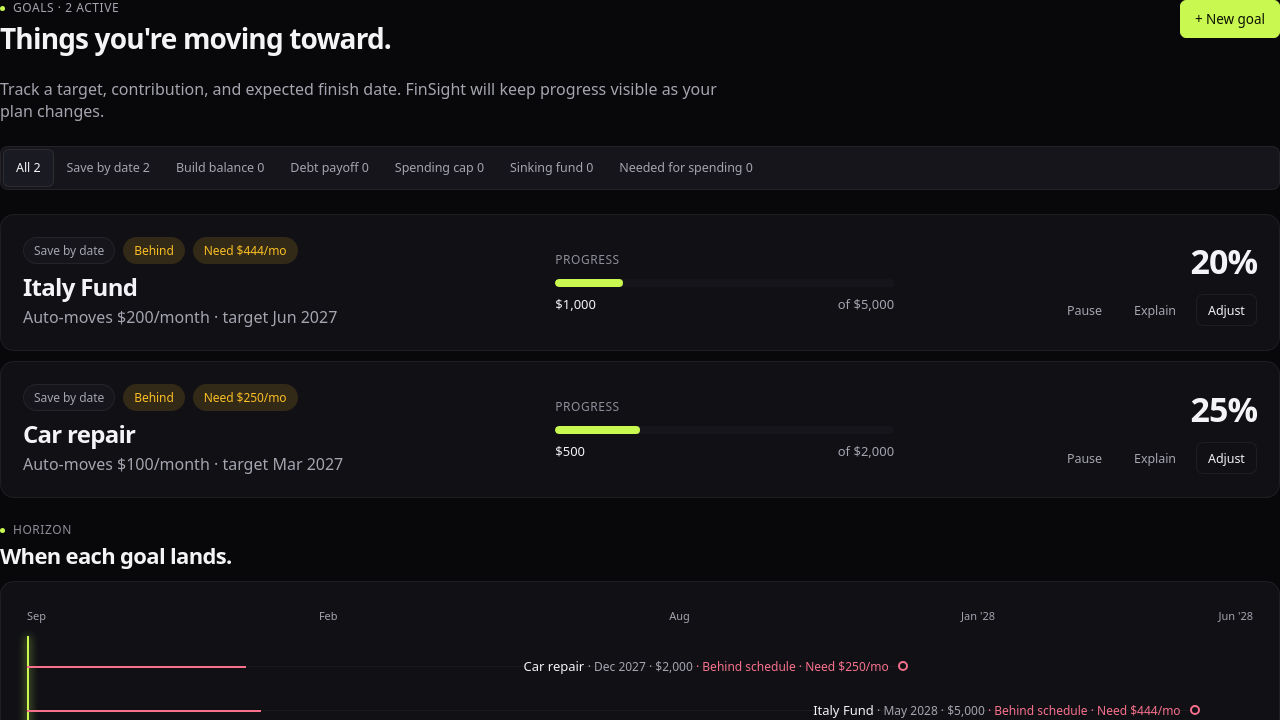
Goals — explain a goal's completion (#71) › opens the inspector with the goal's projected completion
Click the button "Explain" in the row of "/month · target Jun 2027" at (1155, 310), box left=1122, top=294, right=1188, bottom=326
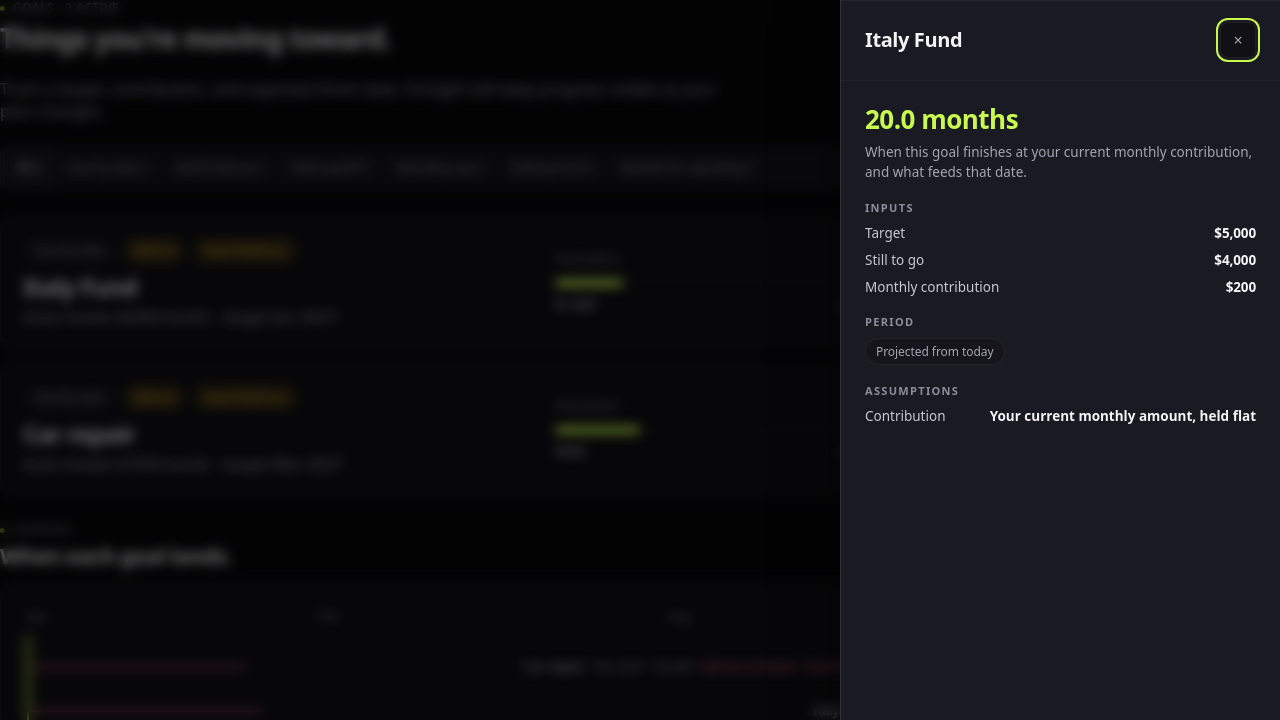
expect the text "When this goal finishes at your current monthly contribution" is shown: met, box left=865, top=143, right=1252, bottom=181
expect the text "Still to go" is shown: met, box left=865, top=251, right=924, bottom=269
